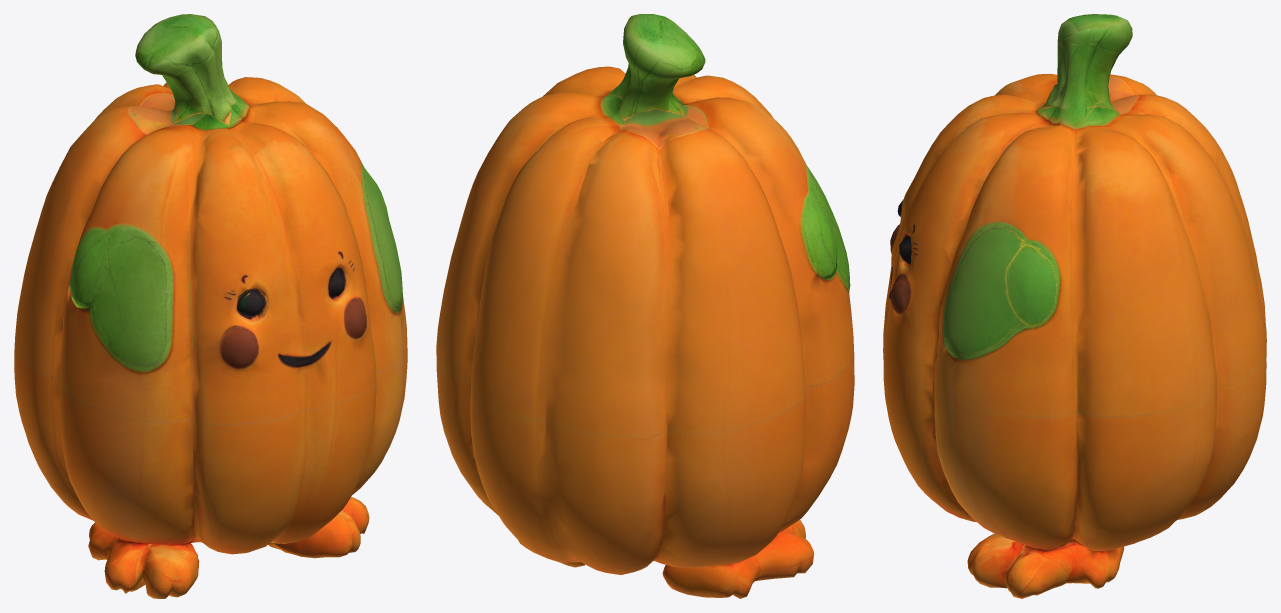
The model's file is pumpkin.glb.
3 renders of one model, left to right at view 1: azimuth 30°, elevation 25°; view 2: azimuth 150°, elevation 25°; view 3: azimuth 270°, elevation 25°, orthographic. The views are drawn at different scales.
Size of the model in its own units: 1.3 by 2 by 1.33.
1 material, 1 textured.
